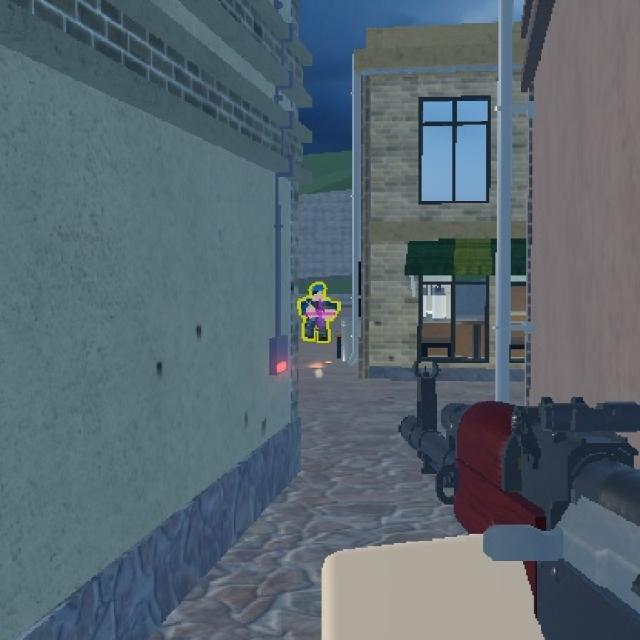player: (300, 280, 334, 346)
